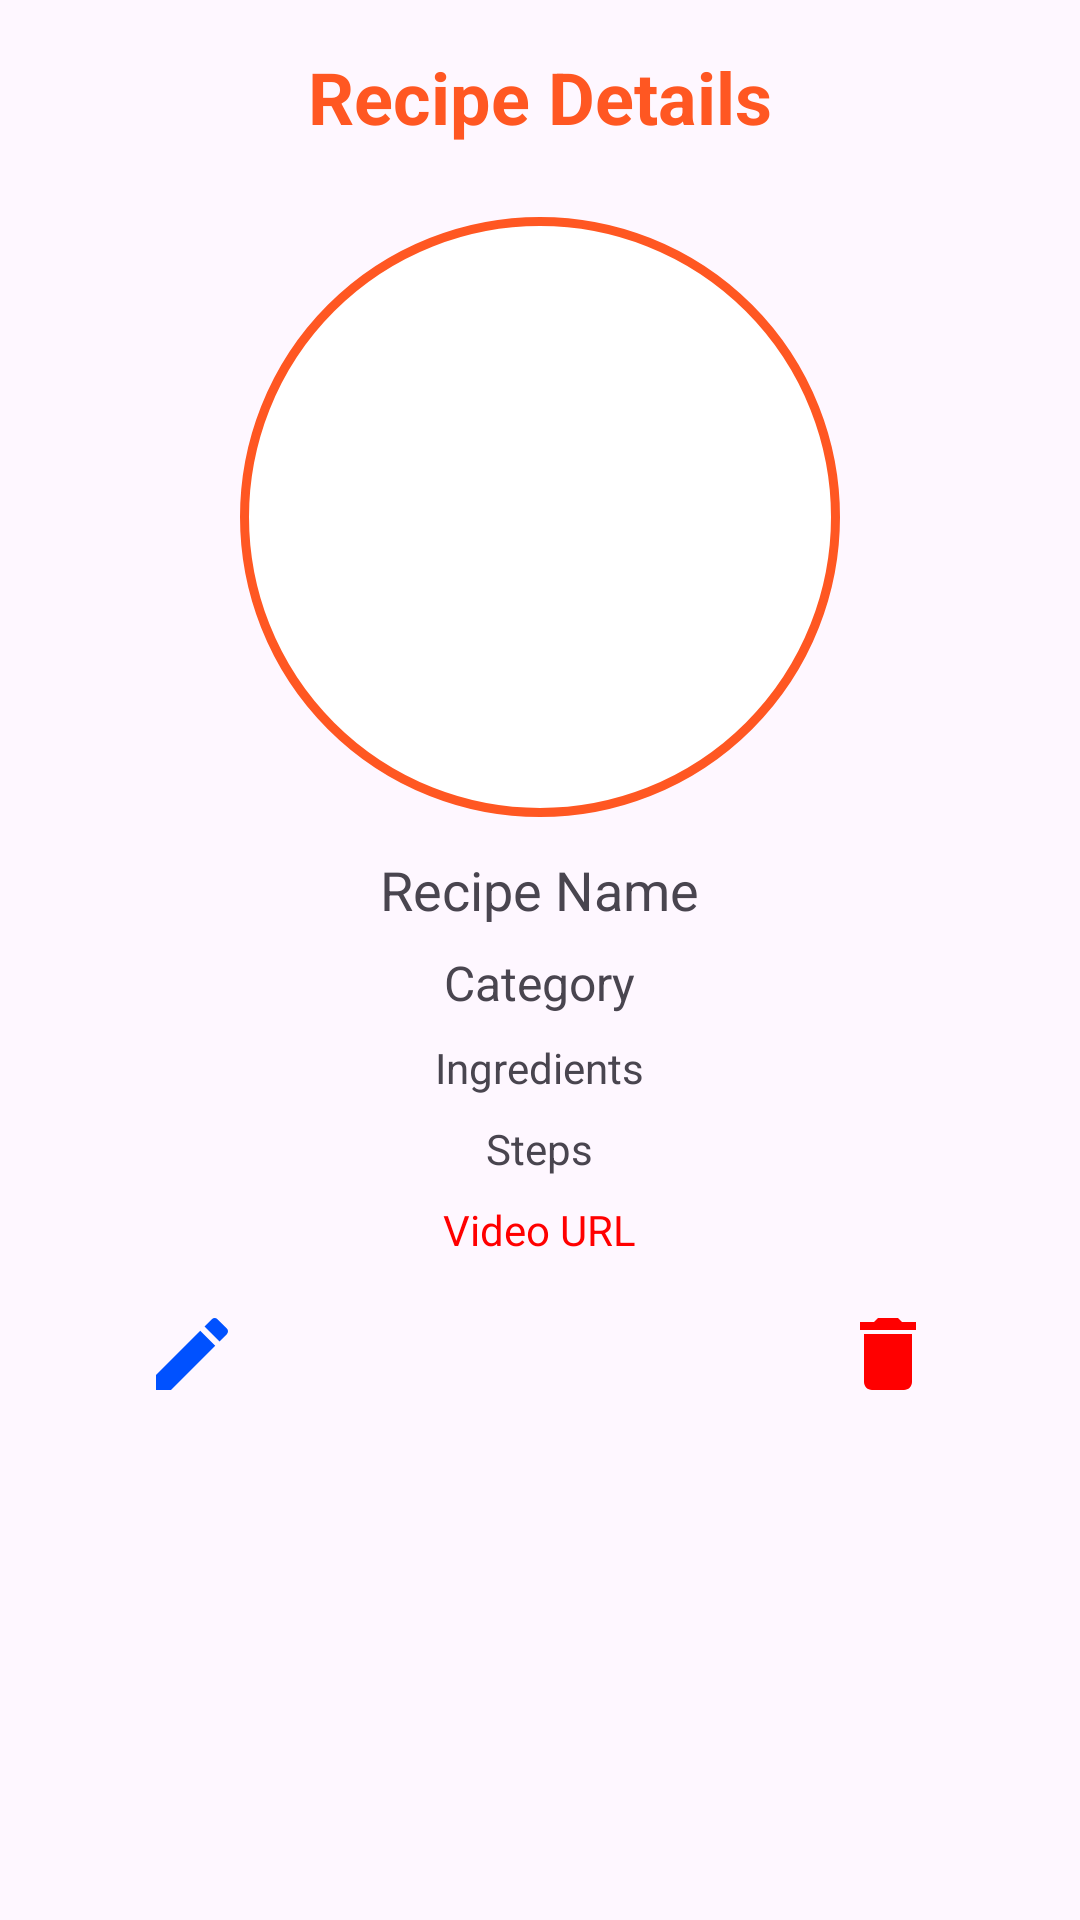

Icon click points for this 1080x1920 phone screenshot, format [x,y]:
Delete Recipe: [888,1354]
Edit Recipe: [192,1354]
